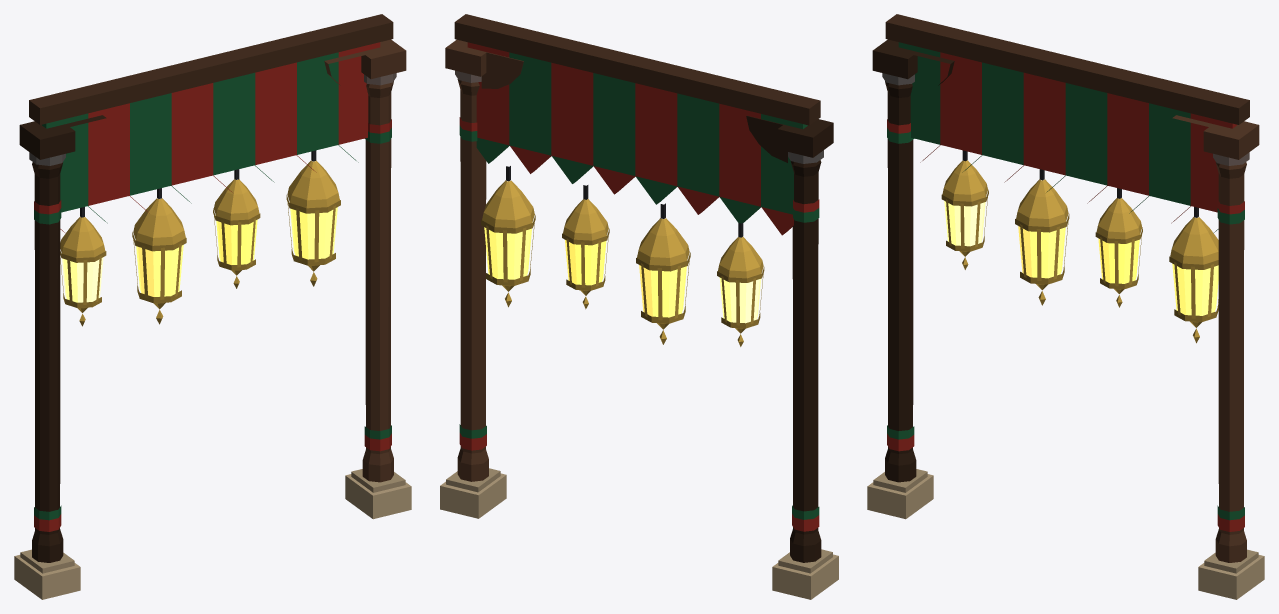
Rendered from souk_gate_lanterns.glb.
3 views of the same model, side by side, from view 1: azimuth 30°, elevation 25°; view 2: azimuth 150°, elevation 25°; view 3: azimuth 330°, elevation 25° (orthographic).
Visible parts, largest first — view 1: souk_gate_lanterns; view 2: souk_gate_lanterns; view 3: souk_gate_lanterns.
Part boxes in pixels (x1=…): souk_gate_lanterns: x1=14, y1=14, x2=411, y2=599; souk_gate_lanterns: x1=440, y1=14, x2=838, y2=599; souk_gate_lanterns: x1=867, y1=14, x2=1264, y2=599.
Bounding box in the file's own units: 2.3 × 2.87 × 0.4618.
